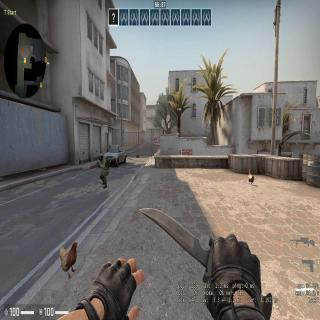CT-Body: (98, 152, 110, 186)
CT-Head: (98, 154, 103, 160)
